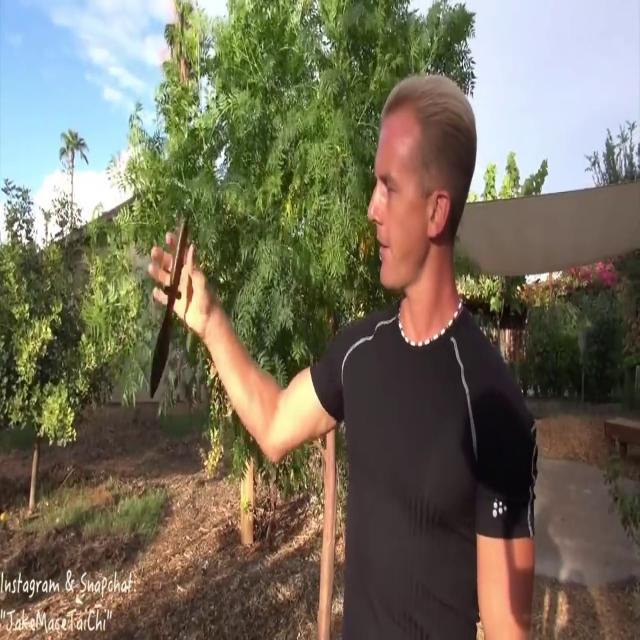knife: (127, 184, 212, 409)
